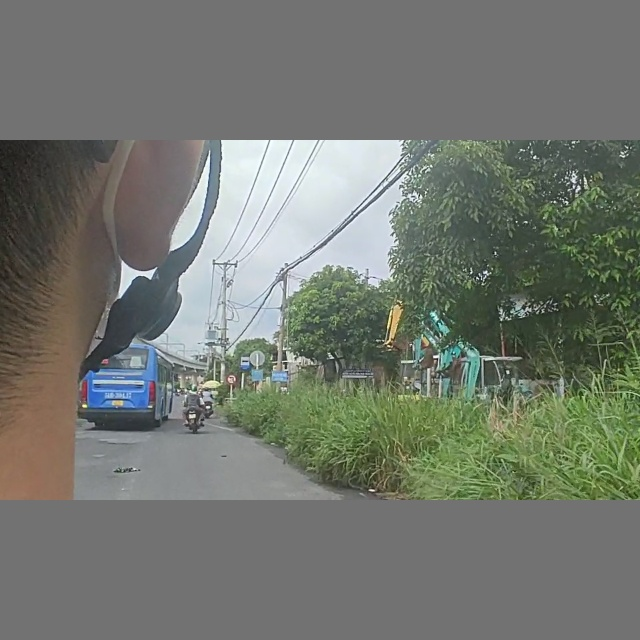I.434a: (240, 355, 251, 371)
P.123a: (227, 374, 237, 385)
